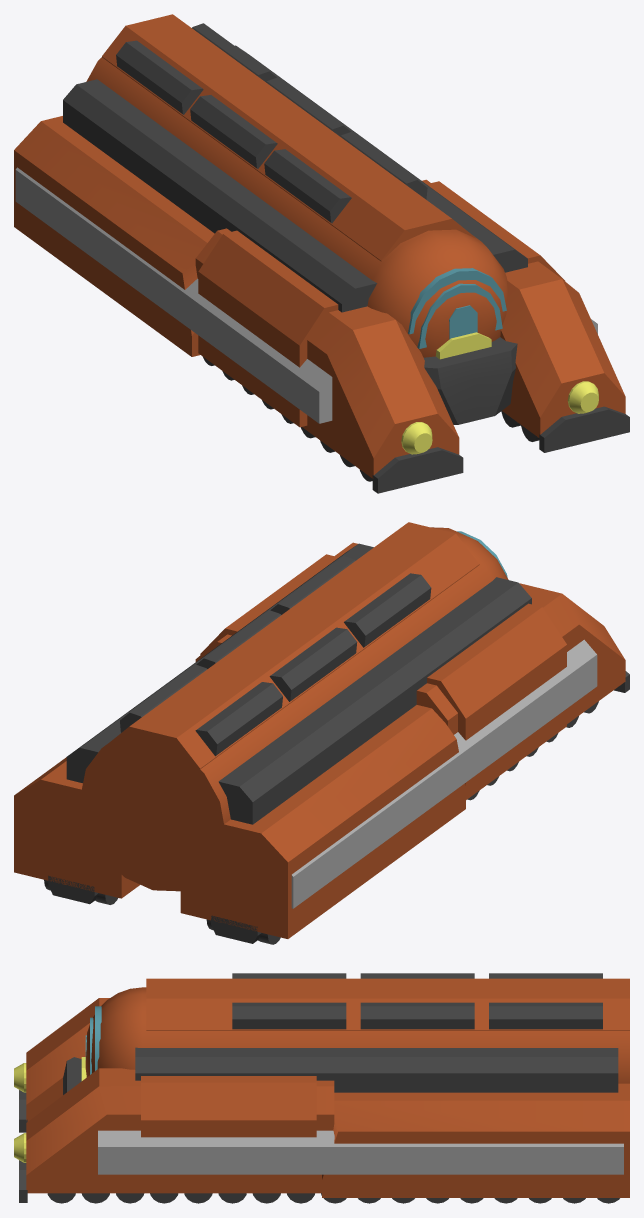
Rendered from SM_train_01.fbx.
3 renders of one model, top to bottom at view 1: azimuth 30°, elevation 25°; view 2: azimuth 150°, elevation 25°; view 3: azimuth 270°, elevation 25°, orthographic. The views are drawn at different scales.
Visible parts, largest first — view 1: SM_train_01; view 2: SM_train_01; view 3: SM_train_01.
Boxes of the visible parts, bbox=[...] form: SM_train_01: bbox=[14, 14, 629, 493]; SM_train_01: bbox=[14, 522, 629, 944]; SM_train_01: bbox=[14, 973, 629, 1203].
Bounding box in the file's own units: 848 × 561 × 1874.
